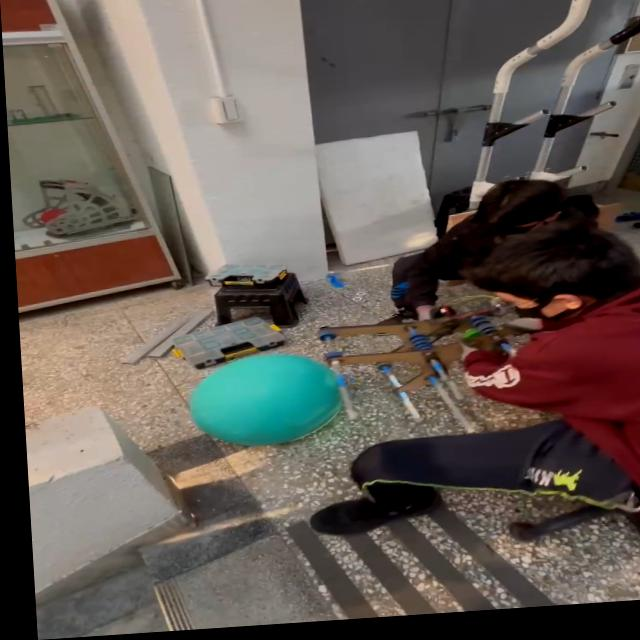ALGAE: (184, 349, 347, 451)
